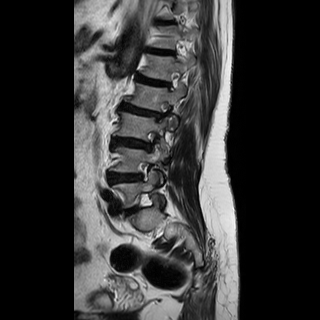LFS1: (131, 155, 155, 185)
LFS2: (149, 97, 175, 127)
LFS3: (139, 127, 161, 156)
